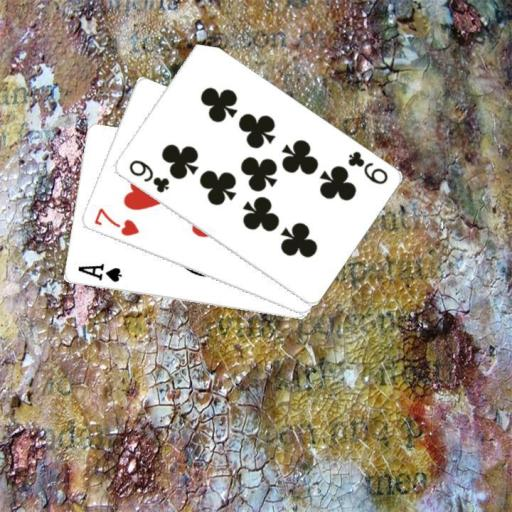7H: (90, 205, 141, 238)
9C: (125, 156, 171, 195), (343, 148, 389, 186)
AS: (74, 260, 123, 284)
